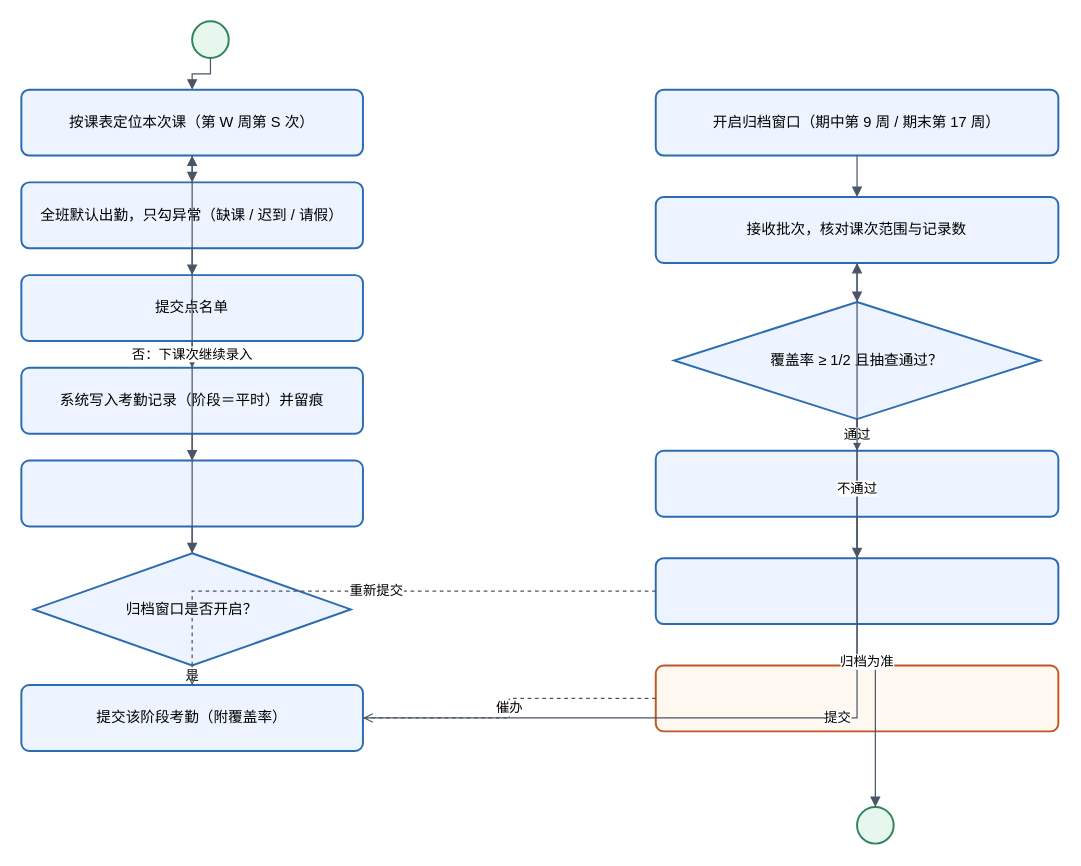
Image size: 1081x866. Some labels were removed from this diagram. Each missing label, with the box of its shape:
一键催办未提交课程（红点 + 站内信）: (654, 664, 1059, 732)
学生端即时可见本人明细: (20, 459, 363, 527)
确认：记录转为归档口径（来源＝教务）: (654, 449, 1059, 517)
退回批次并要求重交（说明原因）: (654, 557, 1059, 624)
